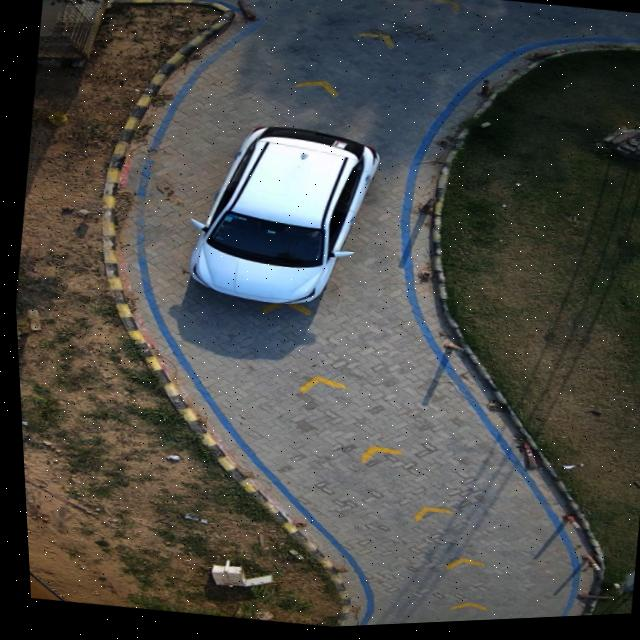car: (186, 130, 377, 306)
